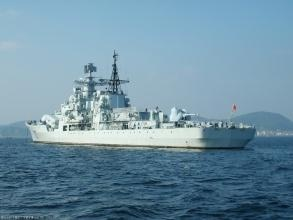warship: (22, 49, 258, 150)
